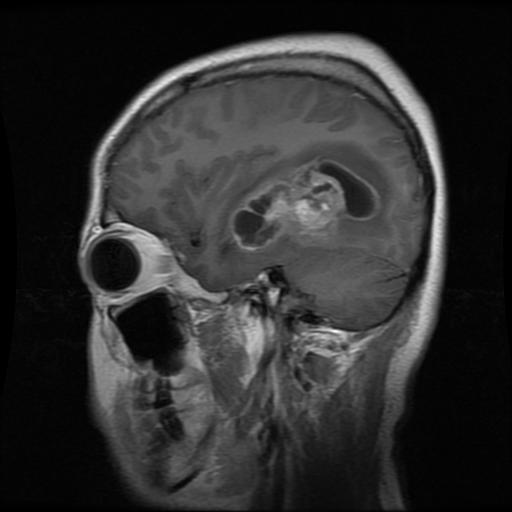Gliomia_tumour: (225, 143, 395, 248)
